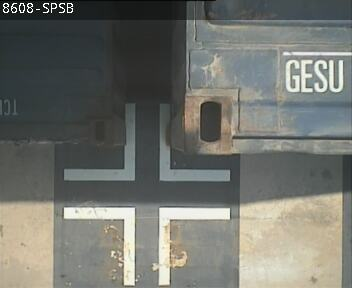groundmarker_1: (62, 106, 231, 181), (62, 207, 231, 281)
